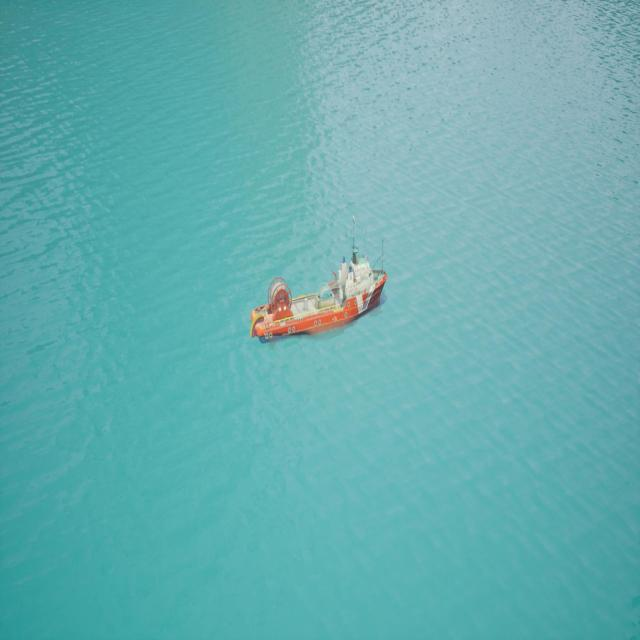tug boat: (252, 251, 388, 344)
